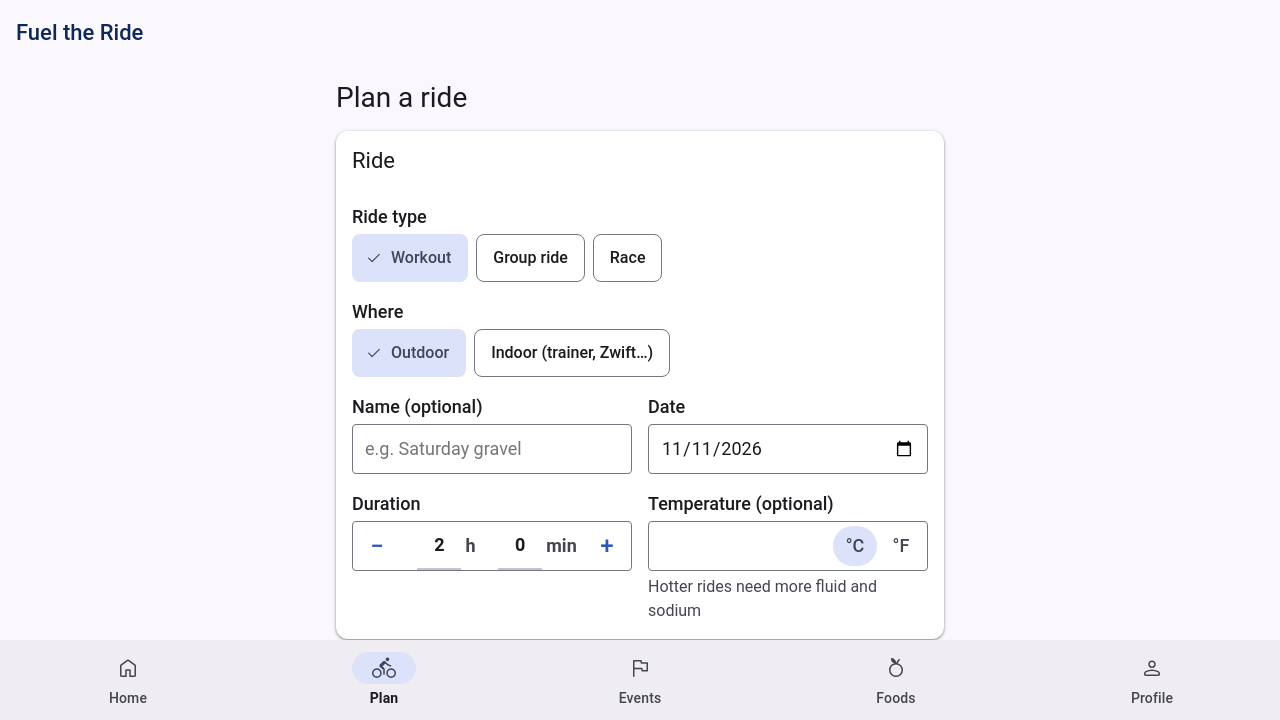
Test: plan a ride: live preview › °C / °F switch converts what is typed
The width and height of the screenshot is (1280, 720).
In the field labelled "Temperature (optional)": x=741, y=546 [649, 522, 833, 570], type "22"
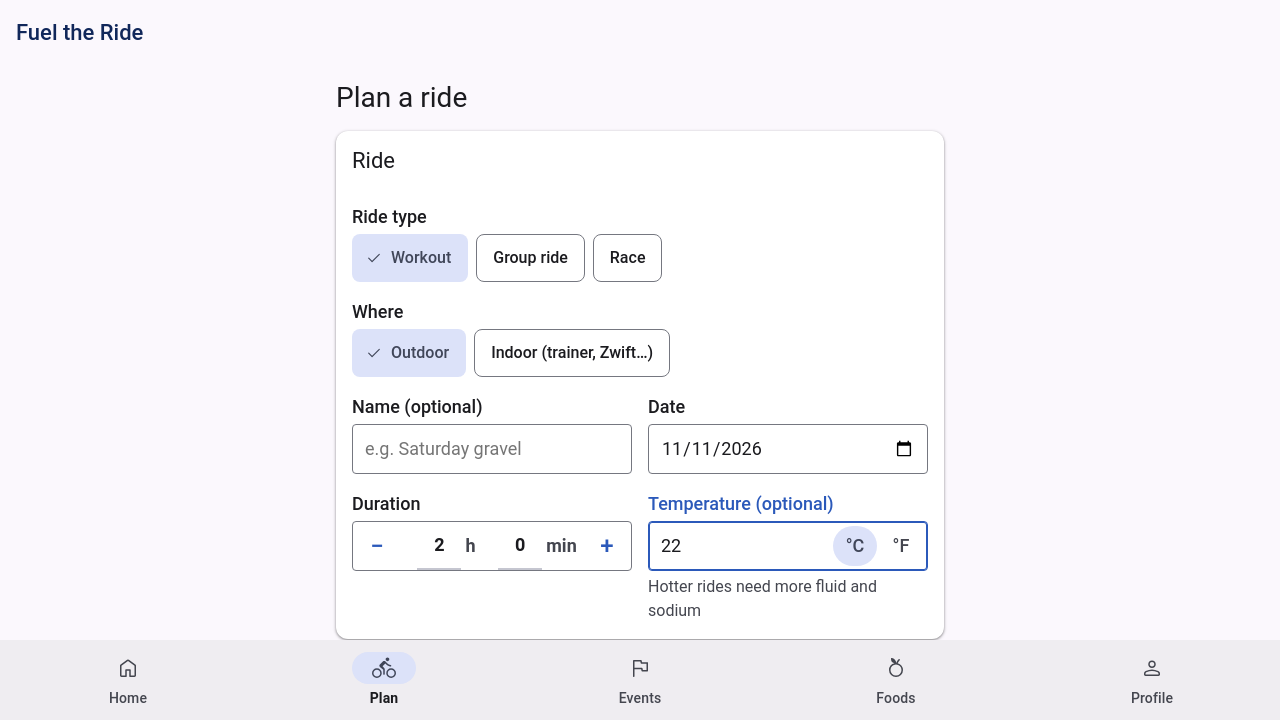
Click the button "°F": x=901, y=546 [879, 526, 923, 566]
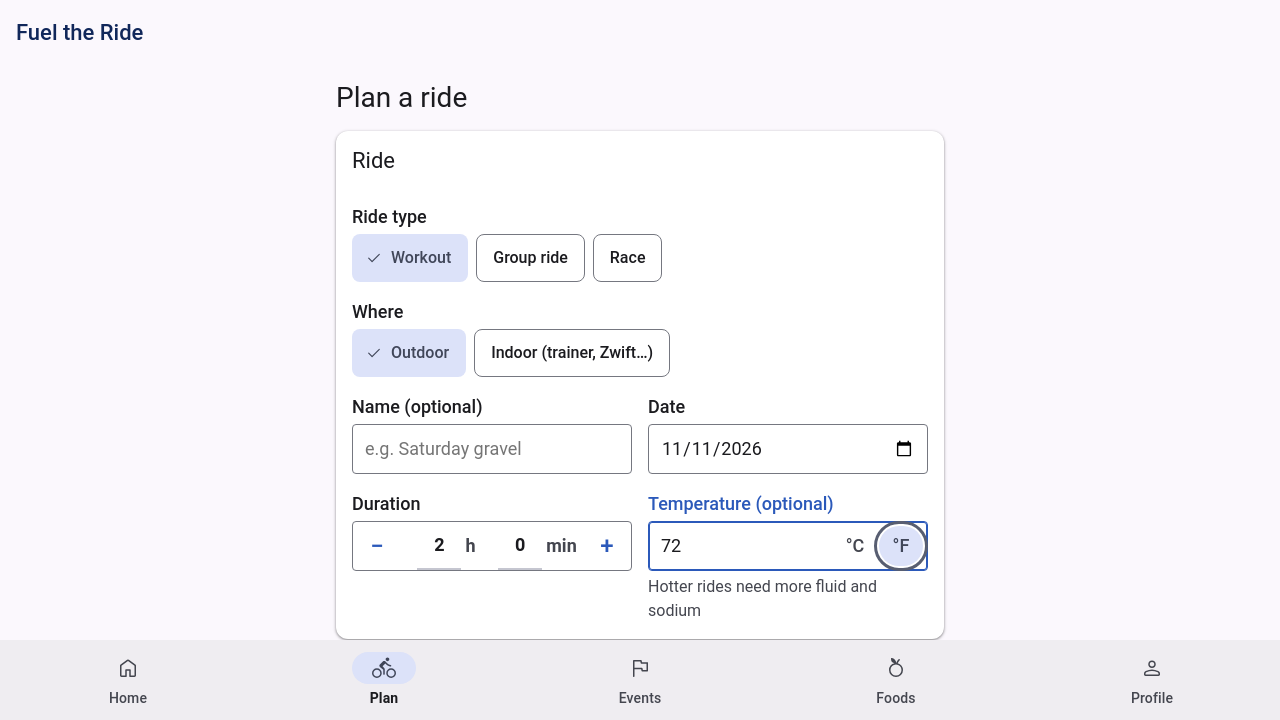
Now the field labelled "Temperature (optional)" holds "72", box [649, 522, 833, 570]
